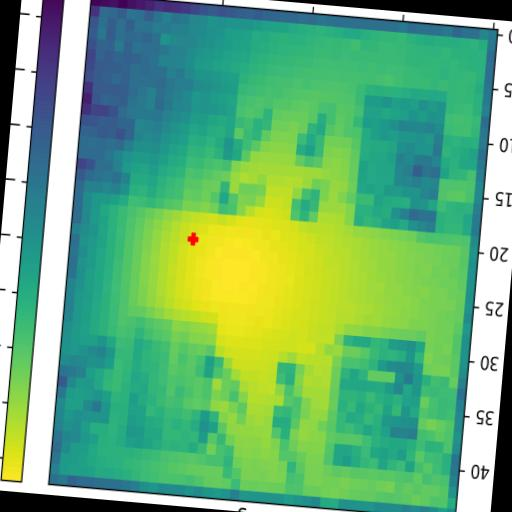Concrete: (112, 314, 219, 464)
Glass: (323, 332, 426, 472)
Metal: (126, 66, 240, 212)
Wood: (352, 92, 446, 232)
